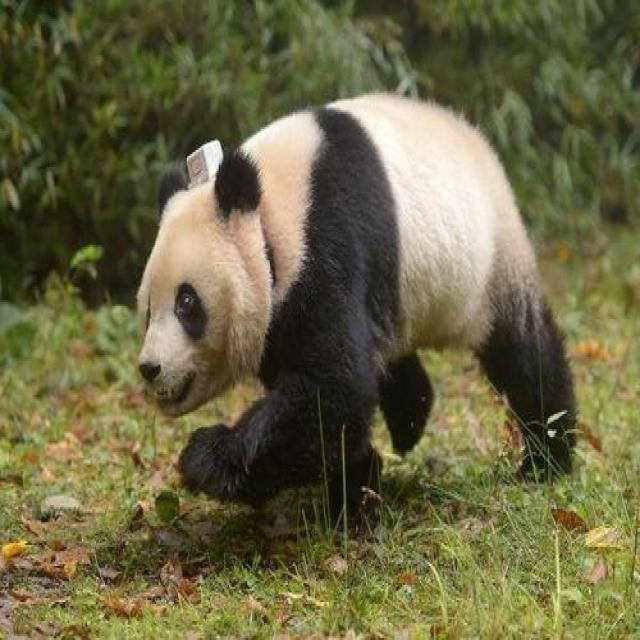panda: (117, 79, 586, 579)
